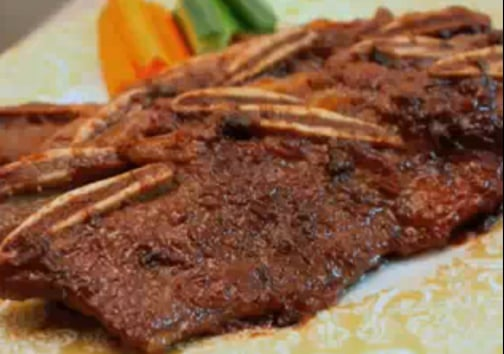sushi: (0, 15, 493, 349)
